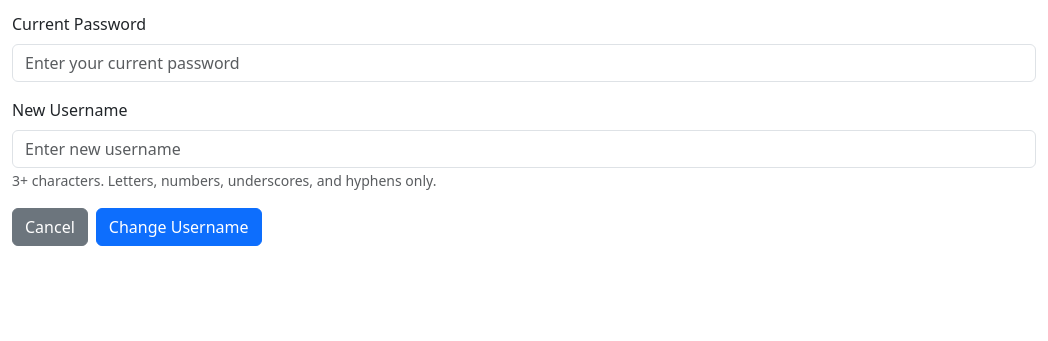
Scenario: ChangeUsername › validation errors › displays error when new username is too short
Type "password123" into the password field labelled "Current Password" at [524, 63], box [12,44,1036,82]
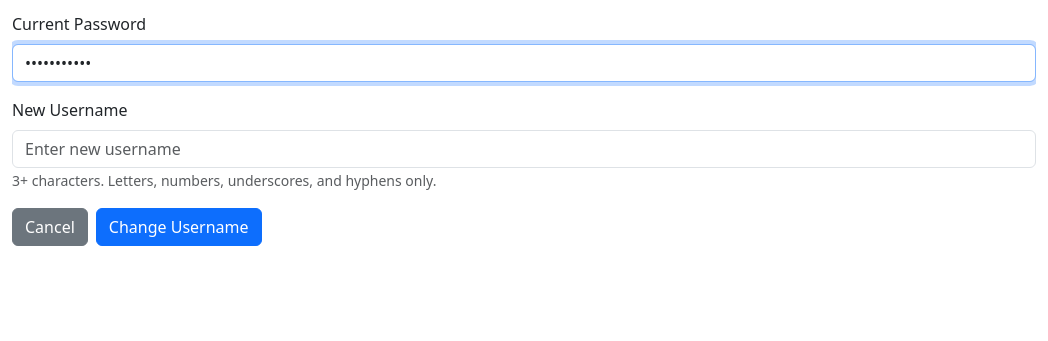
Type "ab" into the field labelled "New Username" at [524, 149], box [12,130,1036,168]
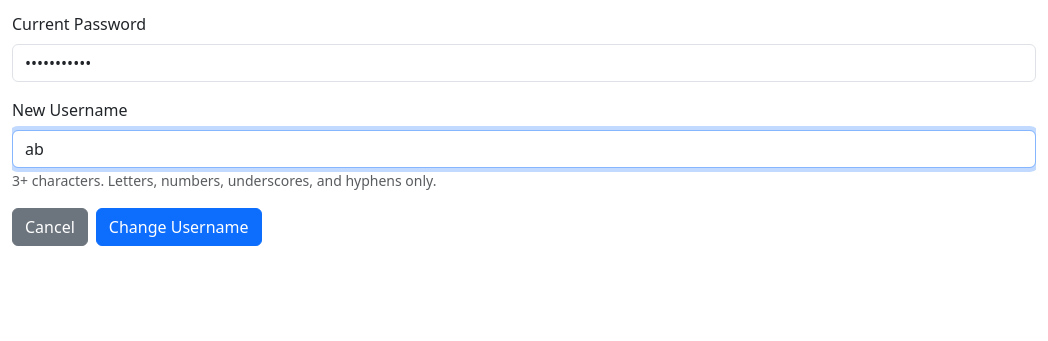
Click the button "Change Username" at [179, 227], box [96,208,262,246]
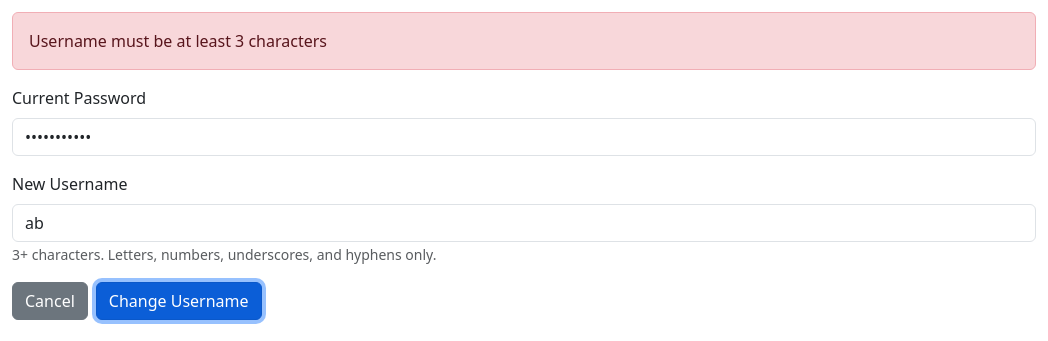
Expected: the text "Username must be at least 3 characters" is shown, [12,12,1036,70]
